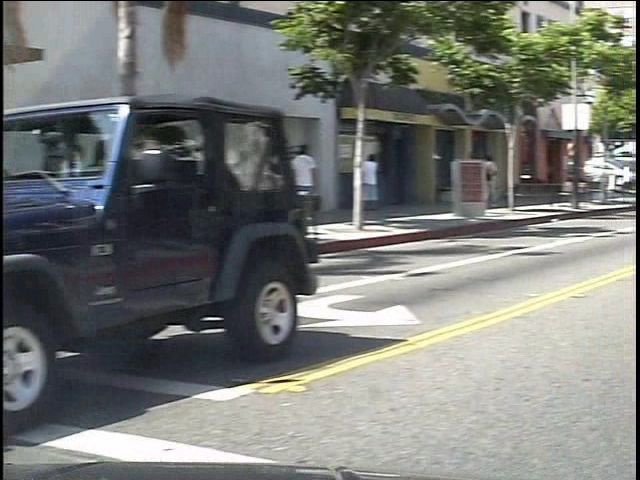person: (305, 140, 340, 235), (374, 142, 398, 225)
